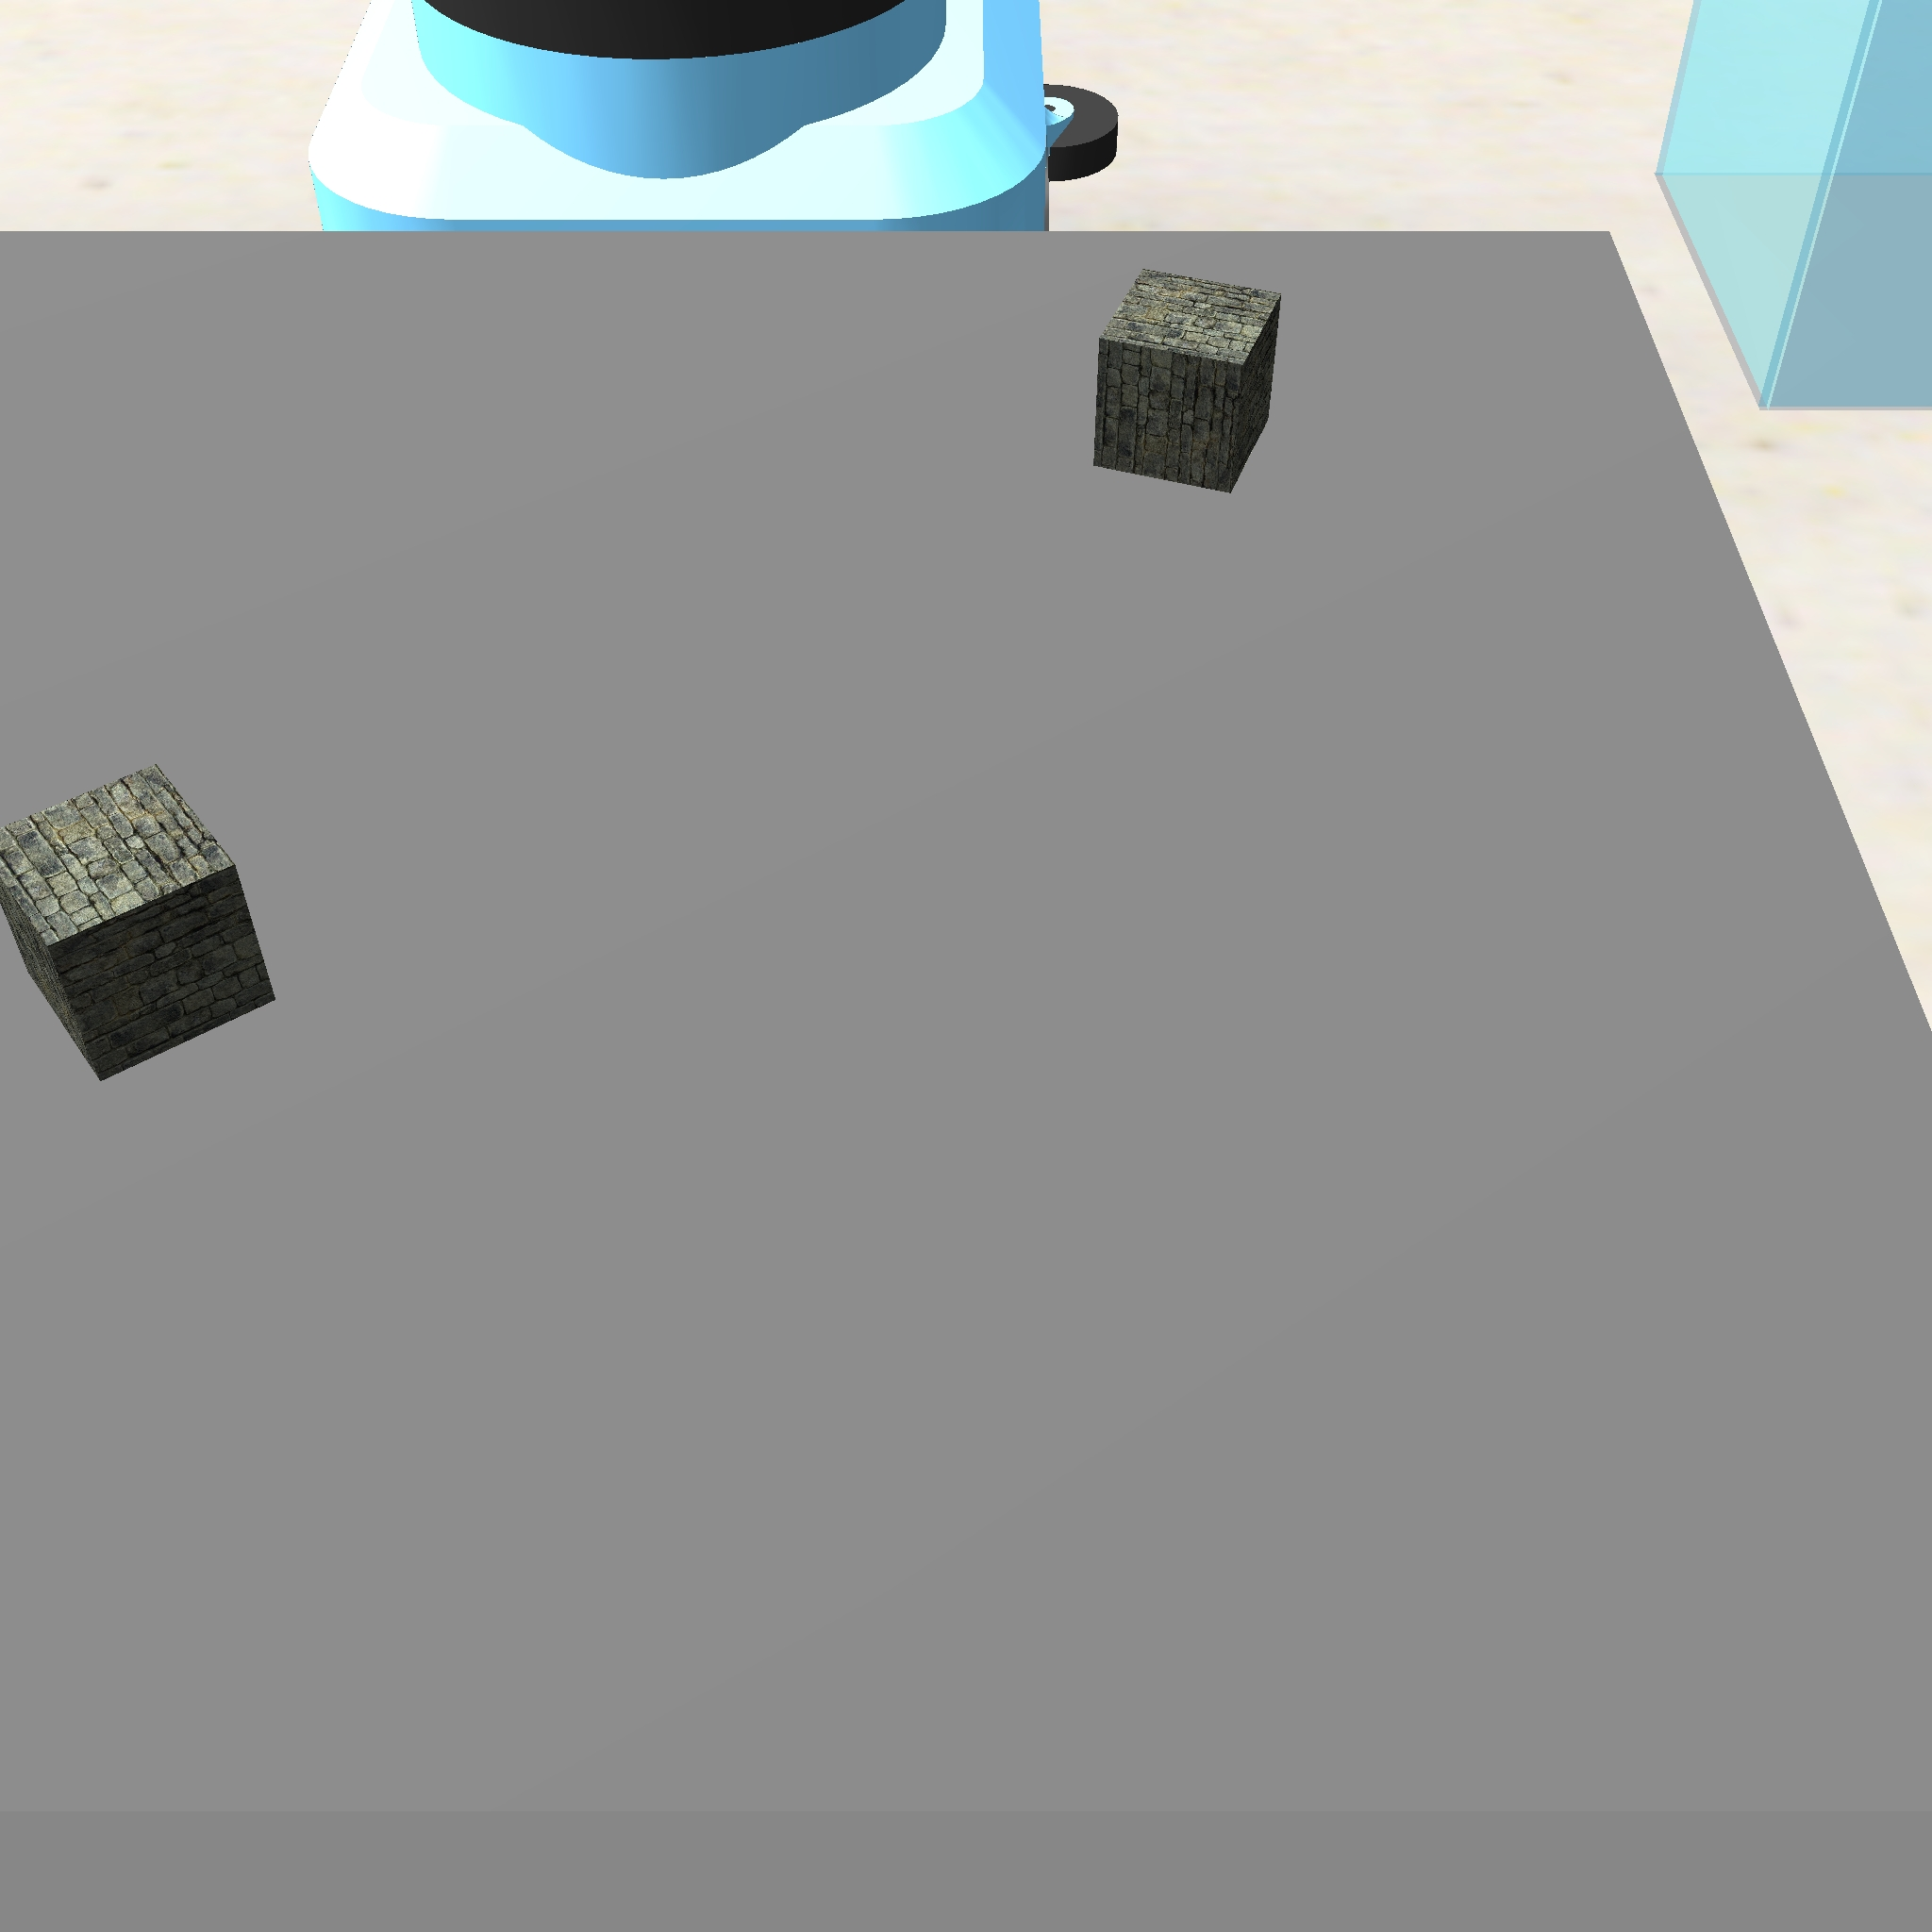cube: (2, 757, 283, 1086), (1086, 260, 1290, 502)
